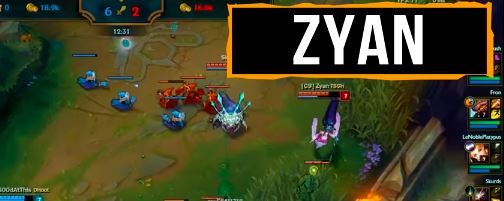bar: (295, 90, 352, 102), (205, 62, 260, 73)
